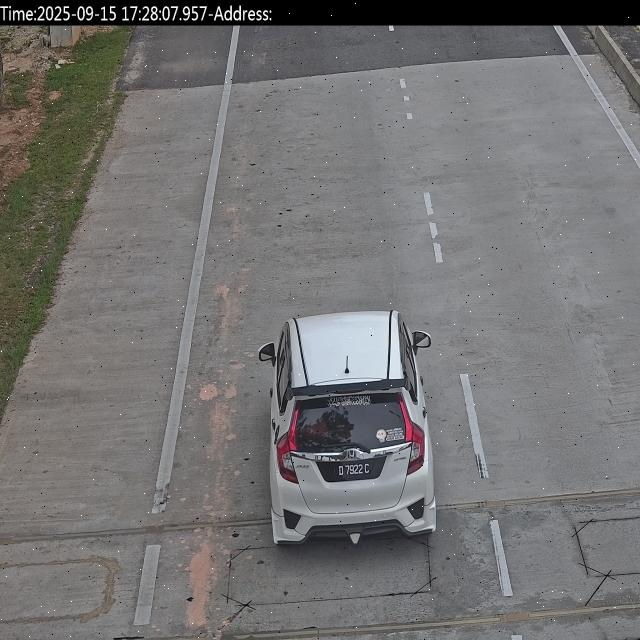back: (324, 464, 379, 479)
